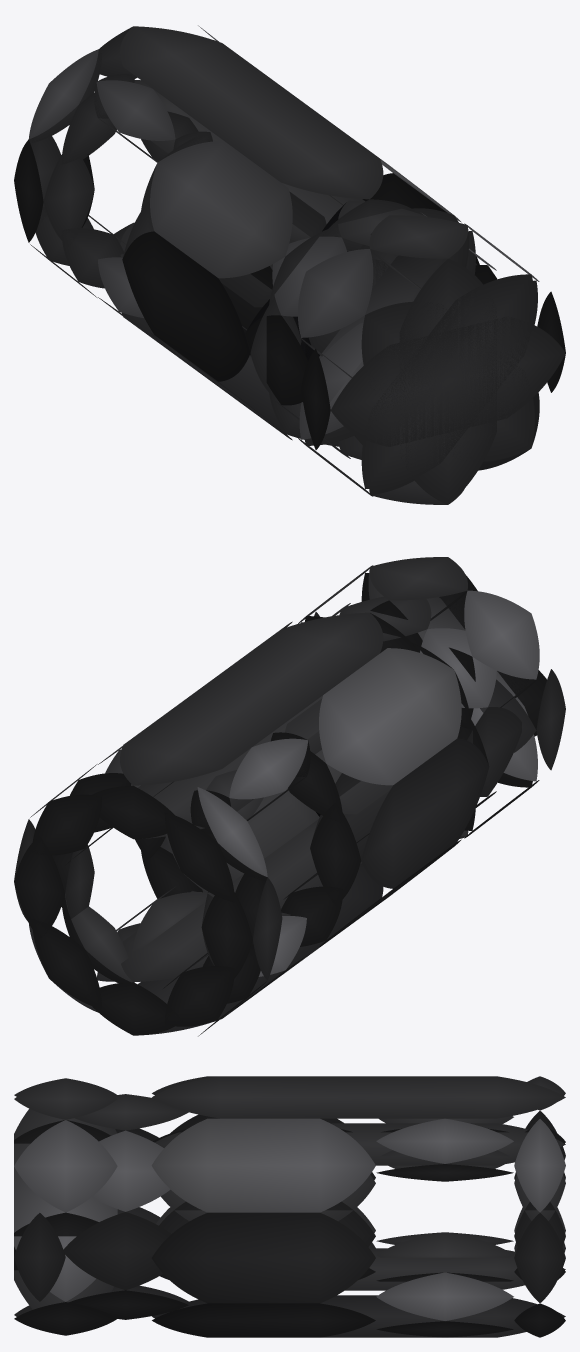
File: udp_9_muzzle_brake.fbx
3 views of the same model, one above another, from view 1: azimuth 30°, elevation 25°; view 2: azimuth 150°, elevation 25°; view 3: azimuth 270°, elevation 25° (orthographic). The views are drawn at different scales.
Visible parts, largest first — view 1: octagon_14, octagon_18, octagon_19, octagon_15, octagon_20, octagon_13, octagon_21, octagon_9, octagon_7, octagon, octagon_22, octagon_8 (+7 smaller); view 2: octagon_14, octagon_15, octagon_13, octagon_16, octagon_7, octagon_2, octagon_9, octagon_21, octagon_3, octagon, octagon_20, octagon_17 (+10 smaller); view 3: octagon_14, octagon_12, octagon_11, octagon_16, octagon_21, octagon_19, octagon_17, octagon_4, octagon_1, octagon_22, octagon_23, octagon_6 (+11 smaller).
Boxes of the visible parts, <box> form: octagon_14: <box>94,26,416,251</box>; octagon_18: <box>301,291,565,449</box>; octagon_19: <box>298,223,539,496</box>; octagon_15: <box>141,133,338,314</box>; octagon_20: <box>354,215,496,504</box>; octagon_13: <box>122,202,301,397</box>; octagon_21: <box>298,248,539,470</box>; octagon_9: <box>14,131,94,246</box>; octagon_7: <box>29,49,134,164</box>; octagon: <box>94,74,212,162</box>; octagon_22: <box>245,265,496,405</box>; octagon_8: <box>30,207,125,297</box>; octagon_14: <box>86,612,418,839</box>; octagon_15: <box>273,642,471,822</box>; octagon_13: <box>310,709,489,905</box>; octagon_16: <box>84,819,383,1035</box>; octagon_7: <box>164,787,267,902</box>; octagon_2: <box>29,894,134,1012</box>; octagon_9: <box>201,868,282,983</box>; octagon_21: <box>430,590,539,718</box>; octagon_3: <box>14,819,94,938</box>; octagon: <box>190,732,310,833</box>; octagon_20: <box>369,557,477,838</box>; octagon_17: <box>141,788,319,898</box>; octagon_14: <box>152,1076,565,1165</box>; octagon_12: <box>151,1118,375,1221</box>; octagon_11: <box>151,1201,375,1303</box>; octagon_16: <box>152,1248,565,1337</box>; octagon_21: <box>14,1078,117,1335</box>; octagon_19: <box>14,1120,117,1270</box>; octagon_17: <box>152,1268,375,1337</box>; octagon_4: <box>376,1272,513,1337</box>; octagon_1: <box>376,1118,513,1181</box>; octagon_22: <box>63,1128,171,1290</box>; octagon_23: <box>92,1130,170,1223</box>; octagon_6: <box>514,1119,565,1220</box>.
Size of the model in its own units: 5.47 by 5.47 by 12.49.
1 material, 1 textured.
